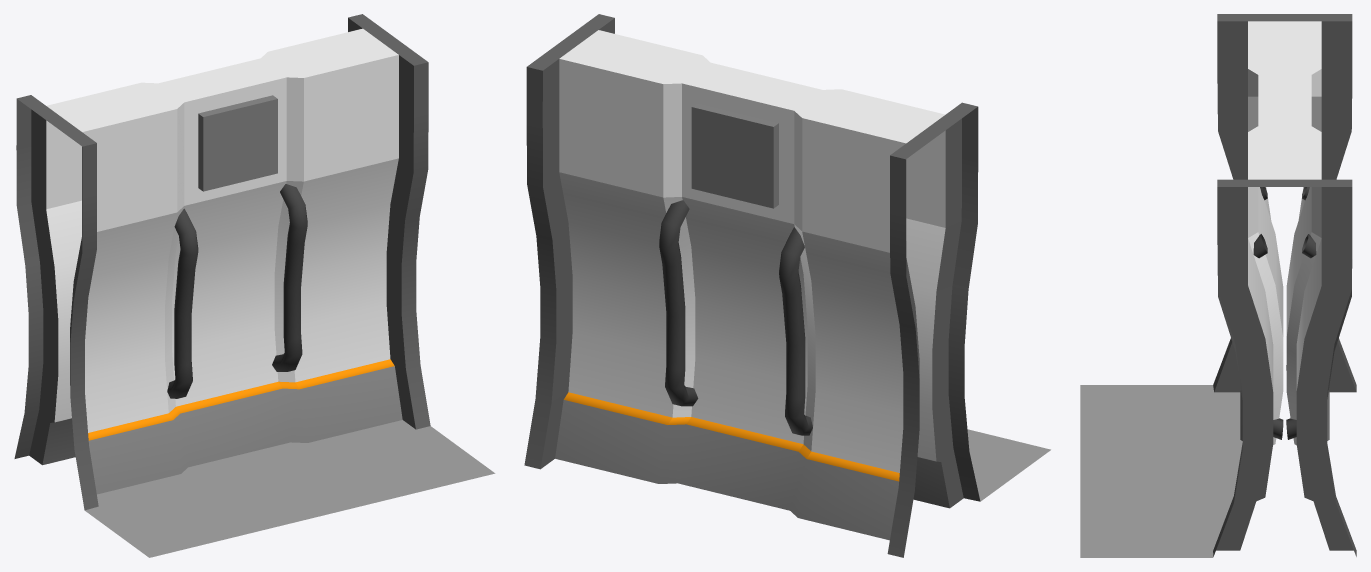
The model's file is SM_ExteriorWall_05.fbx.
3 views of the same model, side by side, from view 1: azimuth 30°, elevation 25°; view 2: azimuth 150°, elevation 25°; view 3: azimuth 270°, elevation 25° (orthographic). The views are drawn at different scales.
Visible parts, largest first — view 1: SM_ExteriorWall_05; view 2: SM_ExteriorWall_05; view 3: SM_ExteriorWall_05.
Part boxes in pixels (left/top/right/bottom): SM_ExteriorWall_05: left=14, top=14, right=495, bottom=557; SM_ExteriorWall_05: left=524, top=14, right=1050, bottom=557; SM_ExteriorWall_05: left=1080, top=14, right=1356, bottom=557.
Size of the model in its own units: 200 by 200 by 135.
Materials: 1 (1 with a texture image).
